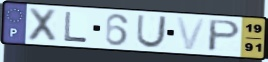6: (104, 12, 131, 47)
L: (63, 10, 90, 44)
P: (206, 19, 243, 53)
U: (135, 14, 169, 50)
V: (175, 16, 209, 52)
X: (25, 7, 59, 45)
